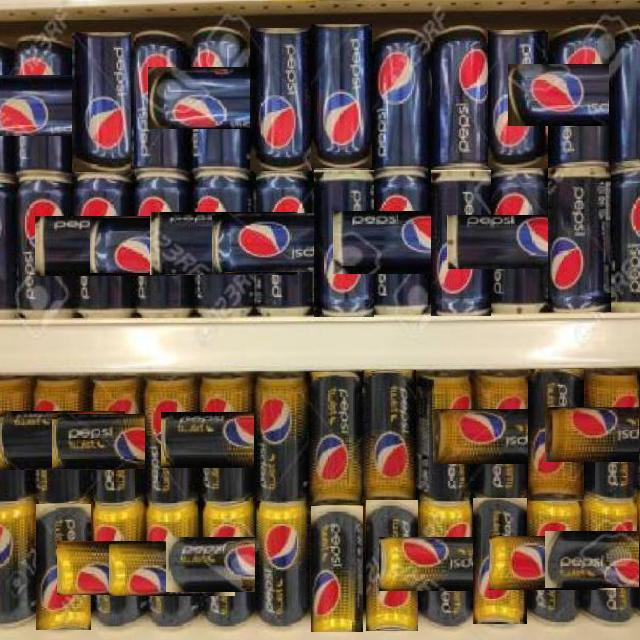Drinks: (547, 167, 611, 312), (149, 213, 297, 275), (148, 66, 293, 129), (332, 212, 477, 274), (71, 32, 135, 172), (314, 169, 374, 317), (250, 28, 312, 171), (431, 25, 493, 168), (431, 169, 491, 316), (311, 24, 372, 168), (34, 216, 178, 276), (15, 177, 76, 318), (372, 27, 432, 169), (213, 213, 357, 272), (487, 29, 548, 168), (90, 217, 237, 273), (508, 64, 640, 126), (132, 29, 189, 171), (447, 215, 590, 269), (528, 368, 584, 501), (254, 371, 309, 506), (161, 412, 292, 468), (308, 372, 363, 505), (434, 409, 567, 464), (417, 370, 473, 500), (0, 412, 125, 470), (145, 373, 199, 507), (362, 370, 416, 503), (52, 414, 182, 469), (380, 536, 509, 591), (0, 74, 114, 136), (36, 503, 91, 630), (365, 500, 418, 631), (110, 541, 235, 596), (166, 538, 292, 592), (473, 498, 527, 624), (490, 536, 616, 590), (256, 503, 309, 630), (58, 541, 181, 595), (311, 505, 363, 632), (545, 532, 640, 588), (545, 407, 640, 462), (0, 503, 35, 630), (611, 167, 639, 314), (610, 24, 639, 165), (0, 424, 81, 457)
